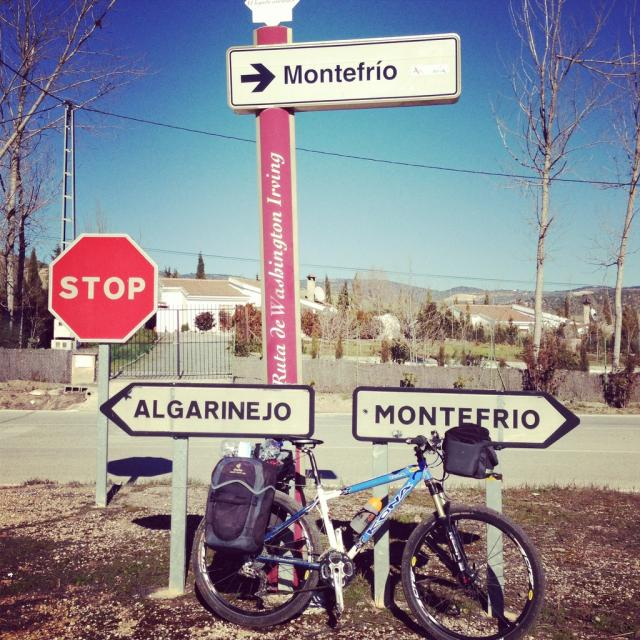Stop-sign: (47, 231, 158, 346)
